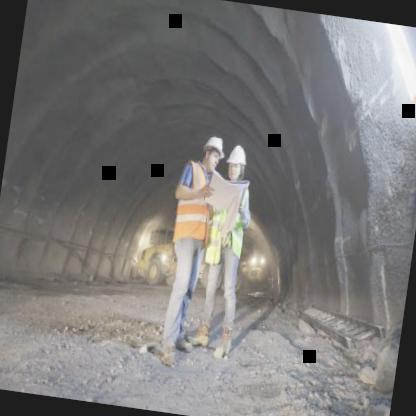helmet: (221, 140, 249, 185), (200, 130, 226, 172)
